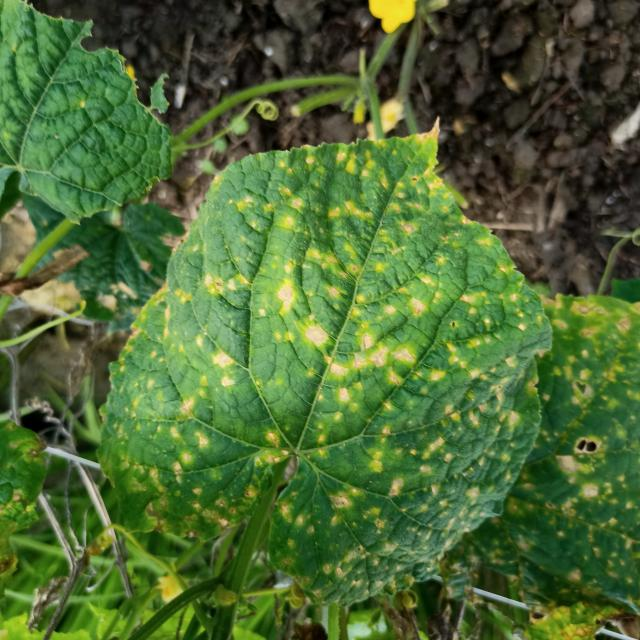disease_cucumber: (113, 140, 541, 598), (480, 299, 640, 615)
